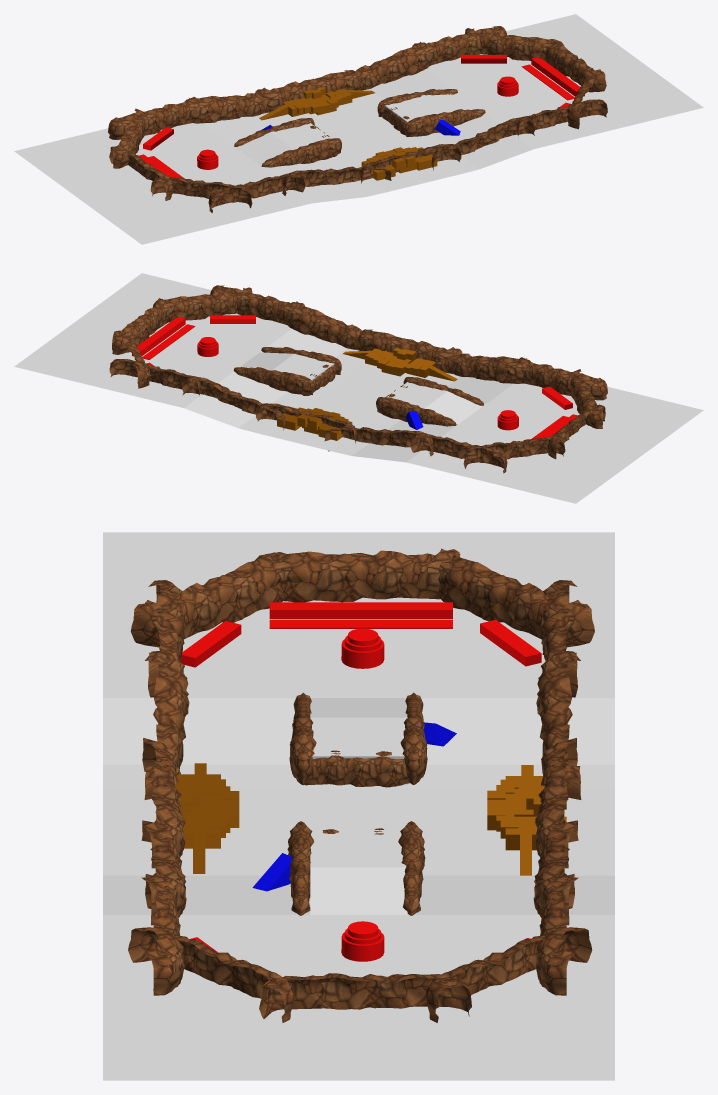
File: full_map.FBX
3 views of the same model, one above another, from view 1: azimuth 30°, elevation 25°; view 2: azimuth 150°, elevation 25°; view 3: azimuth 270°, elevation 25° (orthographic). The views are drawn at different scales.
Parts seen in each view (by area): view 1: map_base, wall004, Group001, Wall__23_, Wall__1_, Wall__23_001, Wall__3_; view 2: map_base, wall004, Group001, Wall__23_001, Wall__1_, Wall__23_, Wall__3_; view 3: map_base, wall004, Group001, Wall__3_, Wall__23_001, Wall__23_, Wall__14_, Wall__33_, Wall__33__1.
Boxes of the visible parts, x1,y1,x2,y2 form: map_base: (14, 14, 703, 244); wall004: (108, 26, 607, 212); Group001: (234, 89, 485, 167); Wall__23_: (259, 87, 374, 120); Wall__1_: (461, 55, 584, 106); Wall__23_001: (360, 147, 437, 180); Wall__3_: (139, 127, 257, 197); map_base: (14, 273, 703, 503); wall004: (109, 285, 607, 473); Group001: (234, 347, 483, 426); Wall__23_001: (343, 348, 457, 381); Wall__1_: (132, 315, 255, 385); Wall__23_: (277, 407, 352, 440); Wall__3_: (531, 386, 577, 439); map_base: (103, 532, 614, 1080); wall004: (128, 548, 594, 1022); Group001: (287, 692, 427, 915); Wall__3_: (180, 602, 541, 667); Wall__23_001: (175, 763, 239, 873); Wall__23_: (487, 765, 566, 875); Wall__14_: (252, 853, 291, 891); Wall__33_: (341, 639, 384, 668); Wall__33__1: (341, 932, 384, 961).
Bounding box in the file's own units: 21258 × 1379 × 8381.
